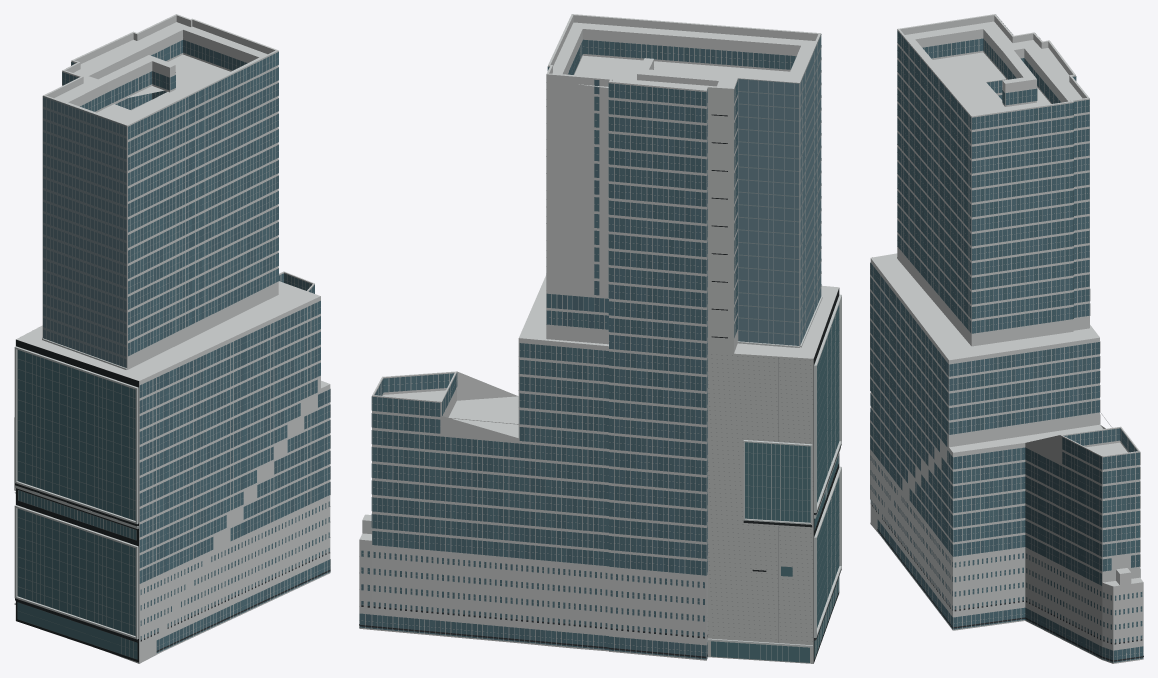
Rendered from hikarie.glb.
3 views of the same model, side by side, from view 1: azimuth 30°, elevation 25°; view 2: azimuth 150°, elevation 25°; view 3: azimuth 270°, elevation 25° (orthographic). The views are drawn at different scales.
Parts seen in each view (by area): view 1: hikarie_wall, hikarie_podium_glass, hikarie_glass2, hikarie_glass0, hikarie_glass1, hikarie_tower_glass, hikarie_silver_frame, hikarie_roof, hikarie_tower_spandrel, hikarie_frame, hikarie_spandrel, hikarie_dark (+1 smaller); view 2: hikarie_wall, hikarie_glass2, hikarie_glass0, hikarie_pale_cladding, hikarie_glass1, hikarie_tower_glass, hikarie_roof, hikarie_frame, hikarie_podium_glass, hikarie_silver_frame, hikarie_spandrel, hikarie_tower_spandrel (+3 smaller); view 3: hikarie_wall, hikarie_glass2, hikarie_glass0, hikarie_glass1, hikarie_roof, hikarie_frame, hikarie_spandrel, hikarie_sign_housing.
Part boxes in pixels (x1,y1,x2,y2): hikarie_wall: (19, 15, 330, 663); hikarie_podium_glass: (17, 350, 137, 659); hikarie_glass2: (62, 40, 330, 649); hikarie_glass0: (74, 41, 330, 652); hikarie_glass1: (66, 40, 330, 651); hikarie_tower_glass: (43, 97, 126, 367); hikarie_silver_frame: (14, 96, 138, 657); hikarie_roof: (16, 14, 329, 388); hikarie_tower_spandrel: (17, 96, 136, 650); hikarie_frame: (62, 41, 330, 653); hikarie_spandrel: (62, 37, 330, 576); hikarie_dark: (15, 339, 138, 662); hikarie_wall: (359, 15, 839, 663); hikarie_glass2: (359, 39, 796, 656); hikarie_glass0: (361, 41, 790, 659); hikarie_pale_cladding: (707, 87, 813, 663); hikarie_glass1: (361, 40, 742, 658); hikarie_tower_glass: (738, 35, 821, 345); hikarie_roof: (359, 14, 838, 540); hikarie_frame: (359, 41, 791, 658); hikarie_podium_glass: (711, 305, 839, 662); hikarie_silver_frame: (707, 44, 841, 661); hikarie_spandrel: (359, 37, 797, 659); hikarie_tower_spandrel: (713, 34, 839, 662); hikarie_wall: (870, 15, 1143, 663); hikarie_glass2: (870, 30, 1142, 660); hikarie_glass0: (870, 36, 1142, 662); hikarie_glass1: (870, 32, 1143, 661); hikarie_roof: (871, 14, 1143, 586); hikarie_frame: (870, 37, 1141, 662); hikarie_spandrel: (870, 36, 1143, 663); hikarie_sign_housing: (870, 503, 1143, 661).
Size of the model in its own units: 132 by 185 by 92.64.
